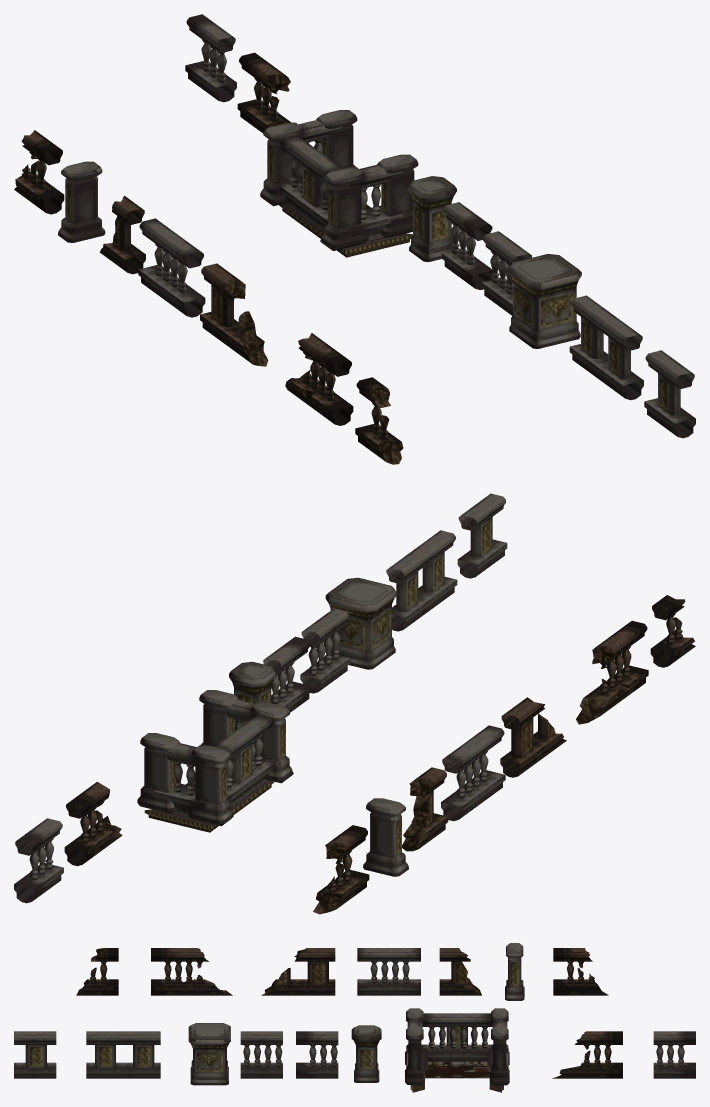
File: EnvMdrMD_Mansion_C_Fence_Deco_A.FBX
The picture shows the model from 3 angles, top to bottom: view 1: azimuth 30°, elevation 25°; view 2: azimuth 150°, elevation 25°; view 3: azimuth 270°, elevation 25°; orthographic projection. The views are drawn at different scales.
Parts seen in each view (by area): view 1: EnvMdrMD_Mansion_C_Fence_Deco_A, EnvMdrMD_Mansion_C_Fence_Point_B, EnvMdrMD_Mansion_C_Fence_Loop_Deco_A_175W, EnvMdrMD_Mansion_C_Fence_Loop_150W, EnvMdrMD_Mansion_C_Fence_Loop_Deco_A_175W_Broken_B, EnvMdrMD_Mansion_C_Fence_End_Broken_B, EnvMdrMD_Mansion_C_Fence_Point_C, EnvMdrMD_Mansion_C_Fence_Point_A, EnvMdrMD_Mansion_C_Fence_Loop_Deco_A, EnvMdrMD_Mansion_C_Fence_Start, EnvMdrMD_Mansion_C_Fence_End, EnvMdrMD_Mansion_C_Fence_Start_Broken_B (+4 smaller); view 2: EnvMdrMD_Mansion_C_Fence_Deco_A, EnvMdrMD_Mansion_C_Fence_Point_B, EnvMdrMD_Mansion_C_Fence_Loop_Deco_A_175W, EnvMdrMD_Mansion_C_Fence_End_Broken_B, EnvMdrMD_Mansion_C_Fence_Loop_150W, EnvMdrMD_Mansion_C_Fence_Loop_Deco_A_175W_Broken_B, EnvMdrMD_Mansion_C_Fence_Start_Broken_B, EnvMdrMD_Mansion_C_Fence_Point_A, EnvMdrMD_Mansion_C_Fence_Loop, EnvMdrMD_Mansion_C_Fence_Start, EnvMdrMD_Mansion_C_Fence_Loop_Deco_A, EnvMdrMD_Mansion_C_Fence_End_Broken_A (+4 smaller); view 3: EnvMdrMD_Mansion_C_Fence_Deco_A, EnvMdrMD_Mansion_C_Fence_Loop_Deco_A_175W, EnvMdrMD_Mansion_C_Fence_Point_B, EnvMdrMD_Mansion_C_Fence_Loop_150W, EnvMdrMD_Mansion_C_Fence_End_Broken_B, EnvMdrMD_Mansion_C_Fence_Loop_Deco_A_175W_Broken_B, EnvMdrMD_Mansion_C_Fence_Start_Broken_B, EnvMdrMD_Mansion_C_Fence_Loop, EnvMdrMD_Mansion_C_Fence_Loop_Deco_A, EnvMdrMD_Mansion_C_Fence_End, EnvMdrMD_Mansion_C_Fence_Start, EnvMdrMD_Mansion_C_Fence_End_Broken_A (+4 smaller).
Boxes of the visible parts, box(x1,y1,x2,y2) form: EnvMdrMD_Mansion_C_Fence_Deco_A: box(260, 110, 418, 257); EnvMdrMD_Mansion_C_Fence_Point_B: box(507, 254, 581, 348); EnvMdrMD_Mansion_C_Fence_Loop_Deco_A_175W: box(569, 295, 643, 400); EnvMdrMD_Mansion_C_Fence_Loop_150W: box(138, 218, 205, 317); EnvMdrMD_Mansion_C_Fence_Loop_Deco_A_175W_Broken_B: box(200, 263, 268, 366); EnvMdrMD_Mansion_C_Fence_End_Broken_B: box(285, 333, 353, 425); EnvMdrMD_Mansion_C_Fence_Point_C: box(407, 176, 456, 262); EnvMdrMD_Mansion_C_Fence_Point_A: box(58, 161, 105, 242); EnvMdrMD_Mansion_C_Fence_Loop_Deco_A: box(644, 350, 695, 438); EnvMdrMD_Mansion_C_Fence_Start: box(185, 14, 236, 102); EnvMdrMD_Mansion_C_Fence_End: box(442, 202, 492, 289); EnvMdrMD_Mansion_C_Fence_Start_Broken_B: box(237, 52, 291, 133); EnvMdrMD_Mansion_C_Fence_Deco_A: box(137, 690, 293, 832); EnvMdrMD_Mansion_C_Fence_Point_B: box(325, 577, 397, 669); EnvMdrMD_Mansion_C_Fence_Loop_Deco_A_175W: box(386, 530, 457, 631); EnvMdrMD_Mansion_C_Fence_End_Broken_B: box(576, 620, 648, 724); EnvMdrMD_Mansion_C_Fence_Loop_150W: box(441, 725, 505, 821); EnvMdrMD_Mansion_C_Fence_Loop_Deco_A_175W_Broken_B: box(500, 697, 566, 777); EnvMdrMD_Mansion_C_Fence_Start_Broken_B: box(64, 782, 122, 866); EnvMdrMD_Mansion_C_Fence_Point_A: box(363, 798, 408, 876); EnvMdrMD_Mansion_C_Fence_Loop: box(300, 608, 350, 693); EnvMdrMD_Mansion_C_Fence_Start: box(14, 818, 63, 903); EnvMdrMD_Mansion_C_Fence_Loop_Deco_A: box(457, 493, 507, 578); EnvMdrMD_Mansion_C_Fence_End_Broken_A: box(313, 825, 369, 914); EnvMdrMD_Mansion_C_Fence_Deco_A: box(405, 1008, 509, 1092); EnvMdrMD_Mansion_C_Fence_Loop_Deco_A_175W: box(86, 1031, 160, 1078); EnvMdrMD_Mansion_C_Fence_Point_B: box(188, 1023, 230, 1085); EnvMdrMD_Mansion_C_Fence_Loop_150W: box(357, 948, 420, 995); EnvMdrMD_Mansion_C_Fence_End_Broken_B: box(151, 948, 232, 995); EnvMdrMD_Mansion_C_Fence_Loop_Deco_A_175W_Broken_B: box(261, 948, 335, 995); EnvMdrMD_Mansion_C_Fence_Start_Broken_B: box(552, 1031, 622, 1078); EnvMdrMD_Mansion_C_Fence_Loop: box(240, 1031, 282, 1078); EnvMdrMD_Mansion_C_Fence_Loop_Deco_A: box(14, 1031, 56, 1078); EnvMdrMD_Mansion_C_Fence_End: box(296, 1031, 338, 1078); EnvMdrMD_Mansion_C_Fence_Start: box(653, 1031, 695, 1078); EnvMdrMD_Mansion_C_Fence_End_Broken_A: box(553, 948, 608, 995).
Size of the model in its own units: 548 by 156 by 1605.
2 materials, 2 textured.
